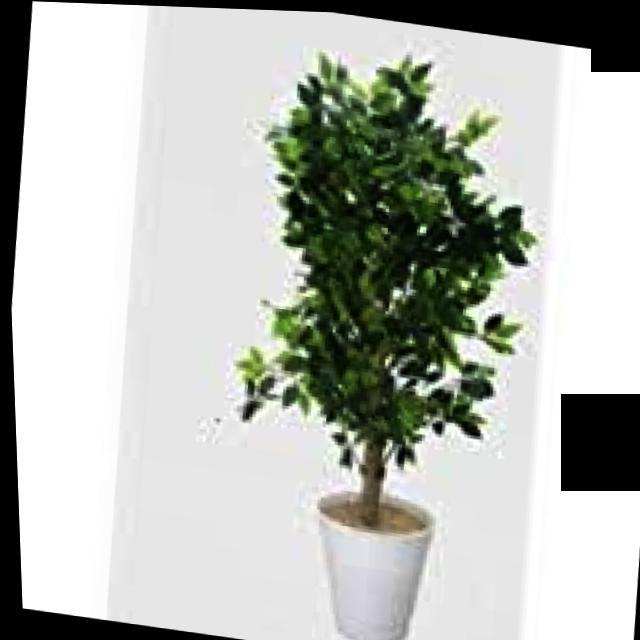Tree: (205, 37, 557, 536)
